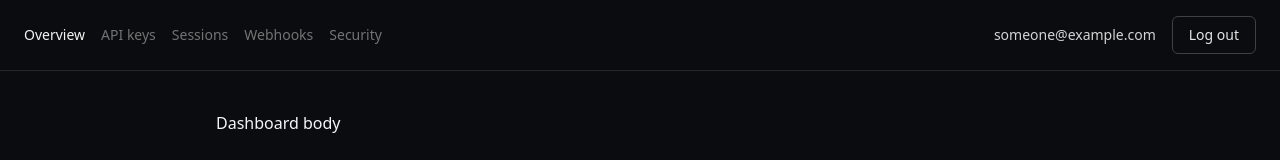
Test: DashboardShell › navigates to a nested route from the nav
Click the link "API keys": [128, 35] box [101,25,156,45]
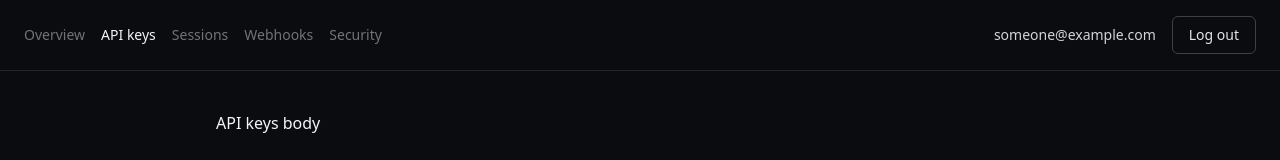
Check: the text "API keys body" is shown, box [216,112,320,134]
